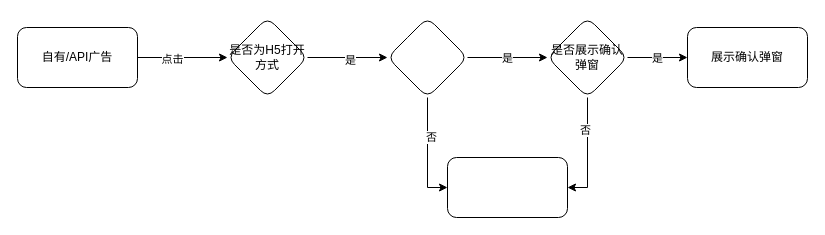
This 825x235 diagram has some shape labels left out. The shapes that lost their labels are listed below. From the top down, each one's centre as x and y in pixels, then its label:
the point at 427,57: 是否为直接下载类
the point at 507,187: 原来的点击响应逻辑
